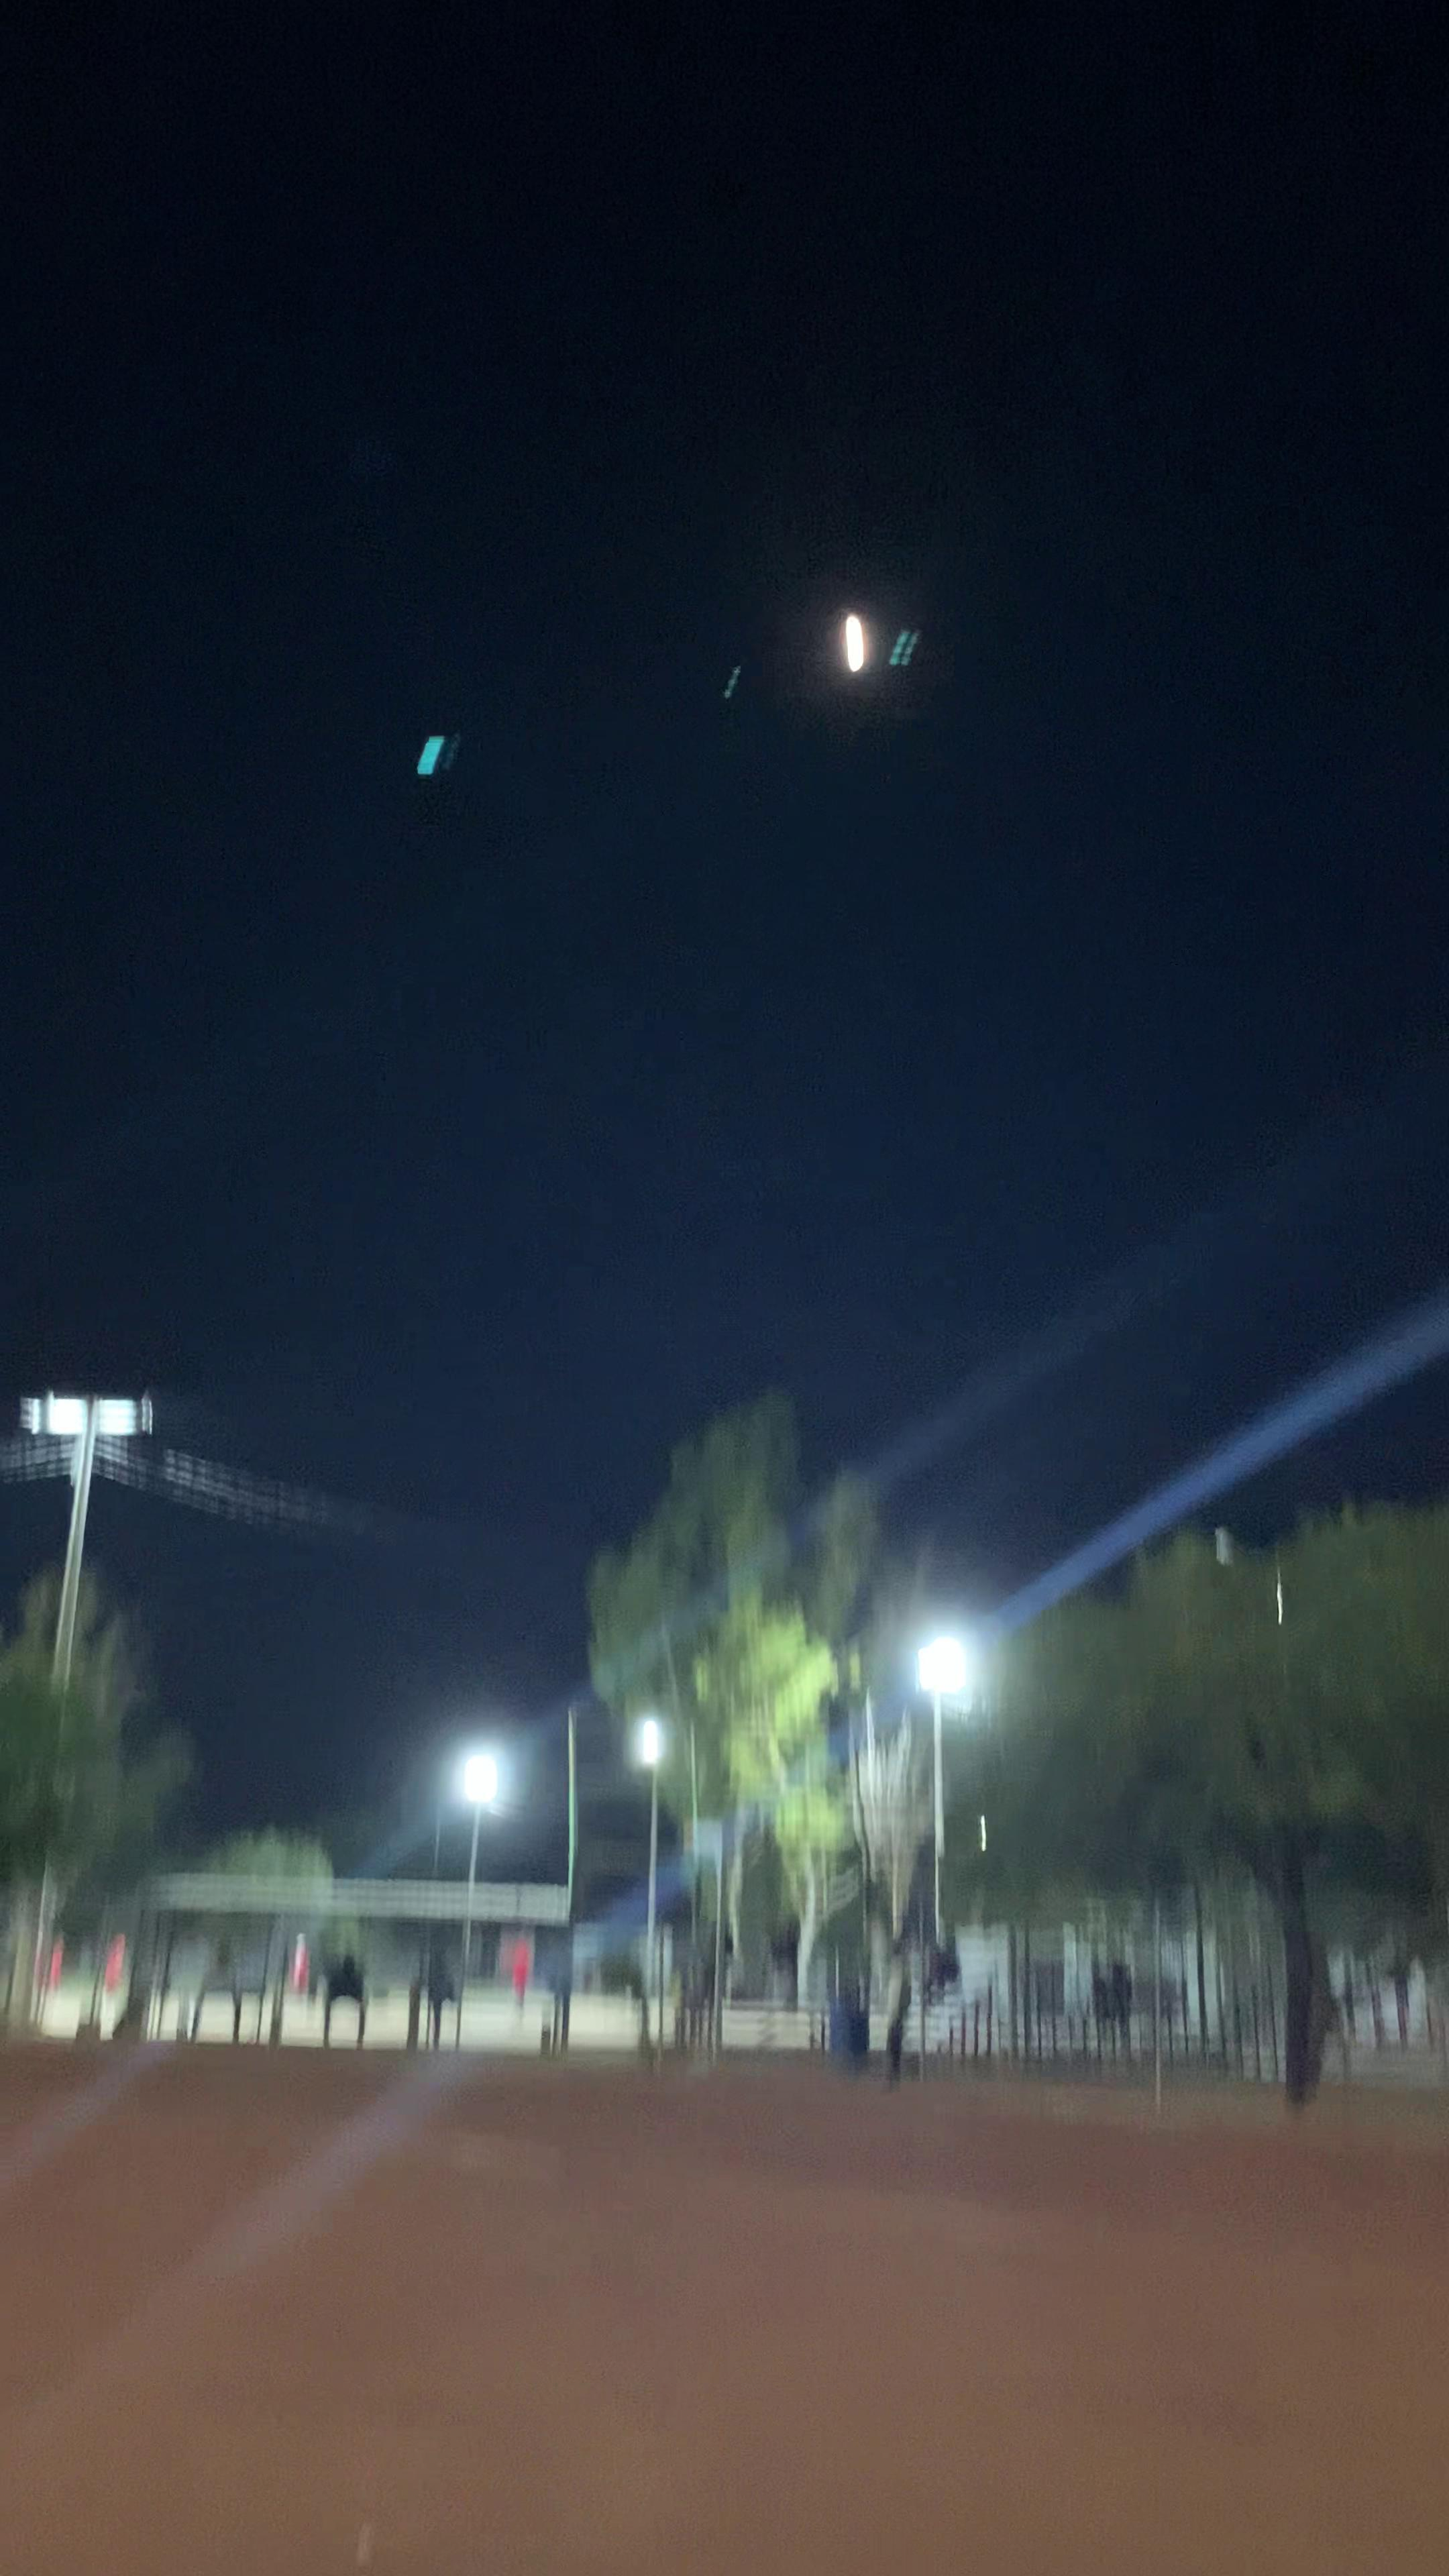moon: (801, 609, 902, 725)
